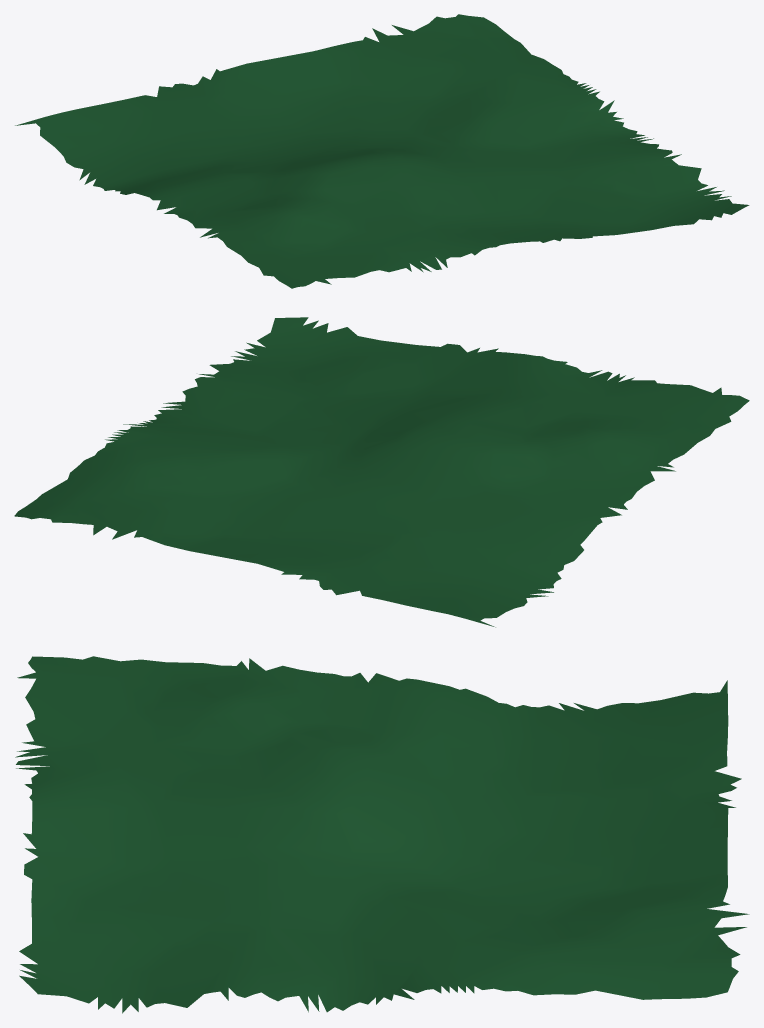
The model's file is payo_land_xm4_ym3_lod2.glb.
The picture shows the model from 3 angles, top to bottom: view 1: azimuth 30°, elevation 25°; view 2: azimuth 150°, elevation 25°; view 3: azimuth 270°, elevation 25°; orthographic projection. The views are drawn at different scales.
Visible parts, largest first — view 1: payo_land_xm4_ym3; view 2: payo_land_xm4_ym3; view 3: payo_land_xm4_ym3.
Part boxes in pixels (x1,y1,x2,y2): payo_land_xm4_ym3: [15, 14, 749, 288]; payo_land_xm4_ym3: [14, 317, 749, 627]; payo_land_xm4_ym3: [15, 656, 749, 1013].
Size of the model in its own units: 272 by 24.13 by 270.
